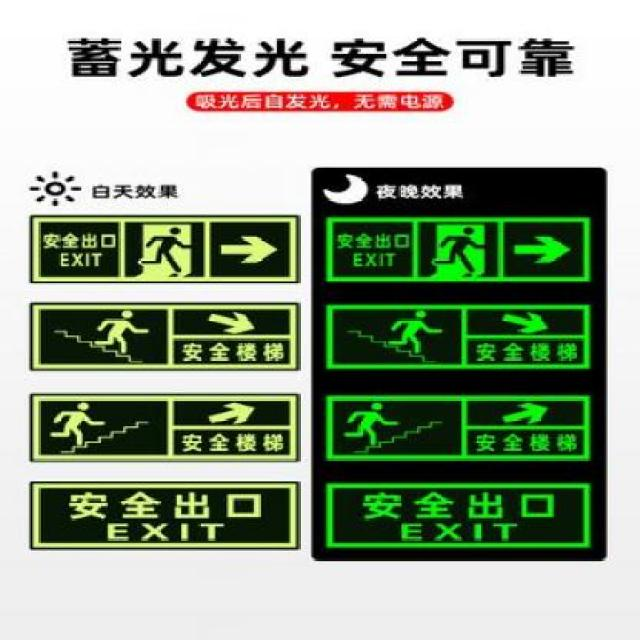exit_sign: (20, 203, 302, 284), (23, 297, 299, 376), (26, 388, 306, 464), (24, 480, 304, 556)
